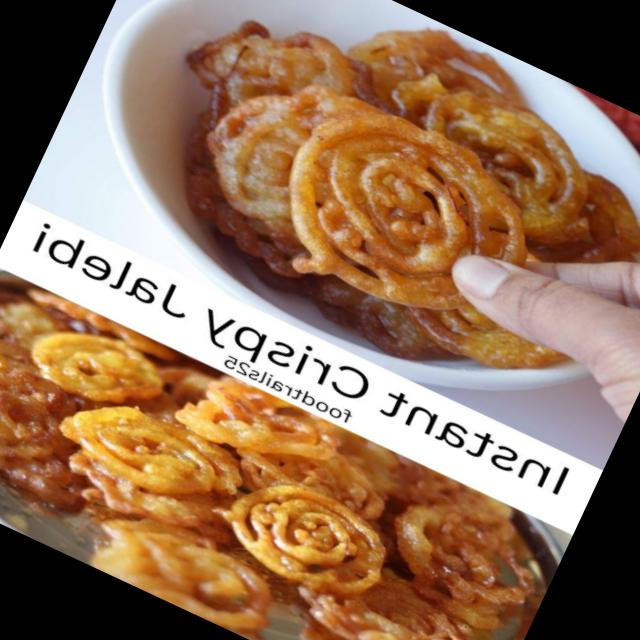jalebi: (127, 0, 640, 415), (0, 278, 548, 640)
